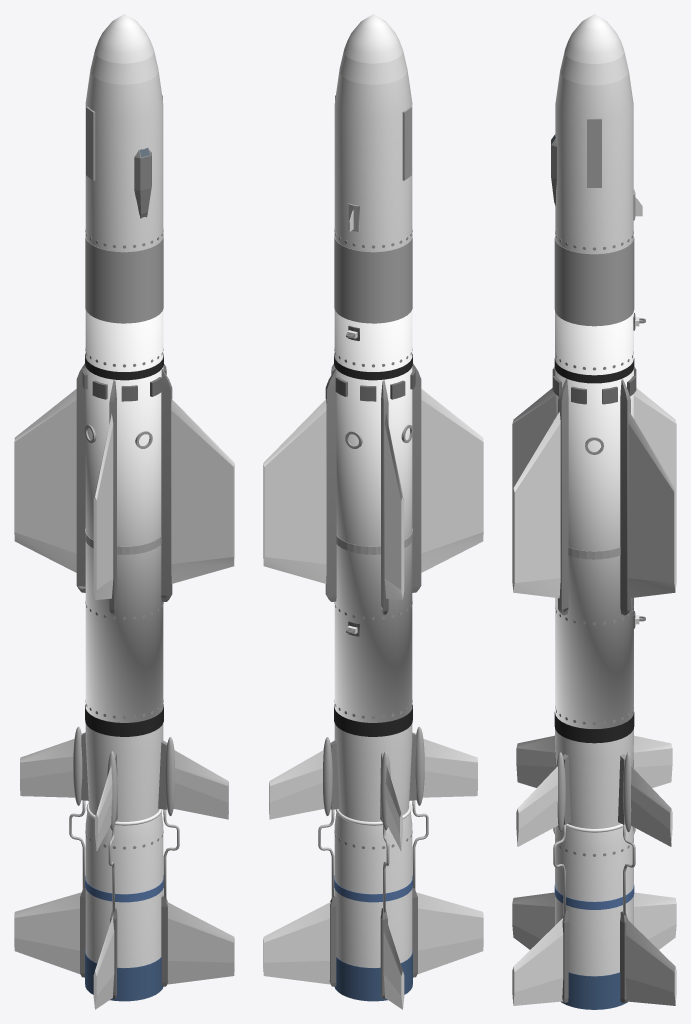
File: pack1-missile-04.glb
3 renders of one model, left to right at view 1: azimuth 30°, elevation 25°; view 2: azimuth 150°, elevation 25°; view 3: azimuth 270°, elevation 25°, orthographic.
Parts seen in each view (by area): view 1: Missile Pack 1 #4; view 2: Missile Pack 1 #4; view 3: Missile Pack 1 #4.
Part boxes in pixels (x1=…): Missile Pack 1 #4: x1=14, y1=14, x2=234, y2=1009; Missile Pack 1 #4: x1=263, y1=14, x2=483, y2=1009; Missile Pack 1 #4: x1=512, y1=14, x2=676, y2=1009.
Bounding box in the file's own units: 0.3652 × 2.4 × 0.3652.
25 materials, 11 textured.
